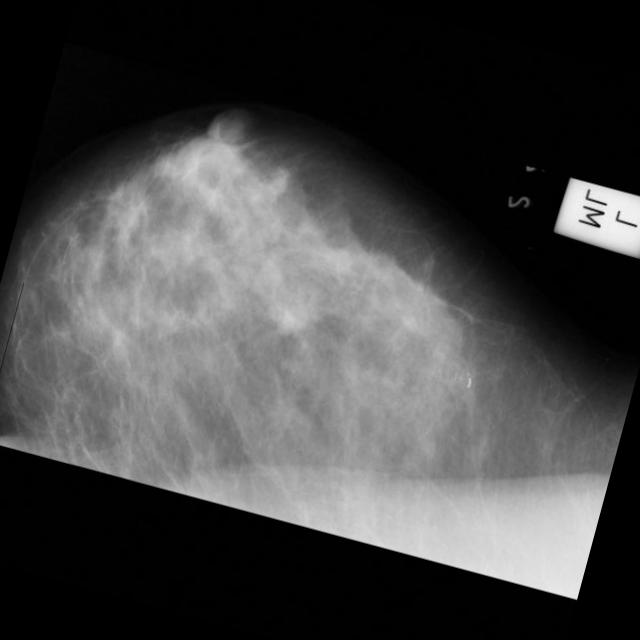CALC: (440, 358, 484, 402)
